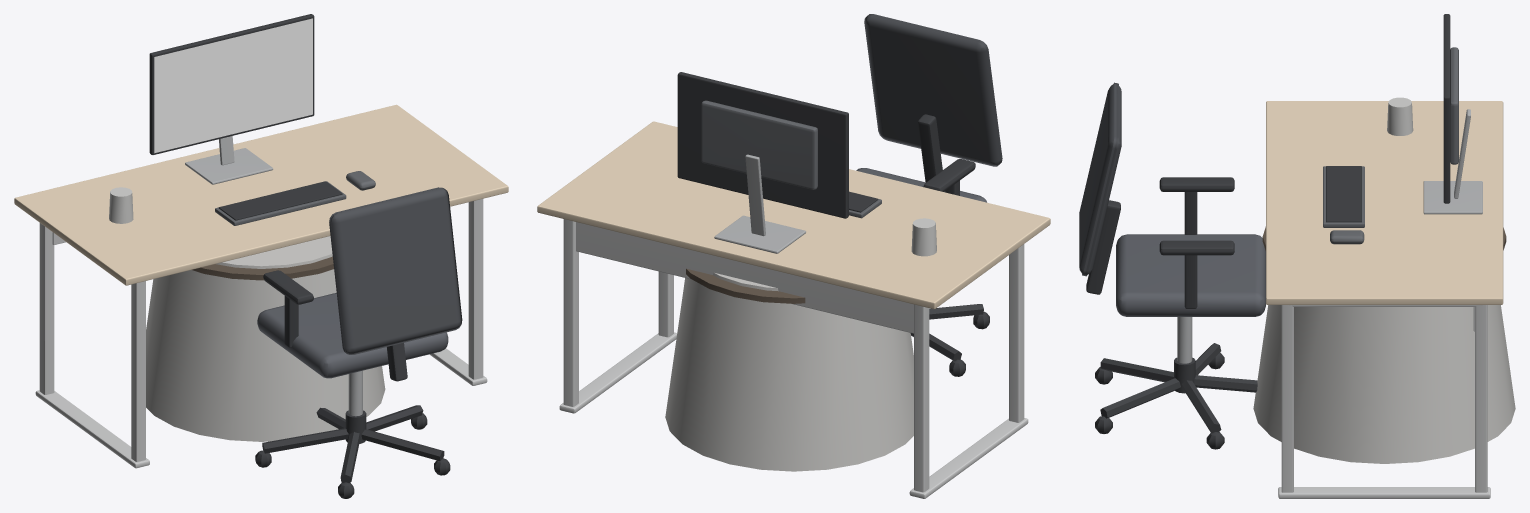
File: office.glb
The picture shows the model from 3 angles, left to right: view 1: azimuth 30°, elevation 25°; view 2: azimuth 150°, elevation 25°; view 3: azimuth 270°, elevation 25°; orthographic projection. The views are drawn at different scales.
Visible parts, largest first — view 1: workstation, planter; view 2: workstation, planter; view 3: workstation, planter.
Part boxes in pixels (x1,y1,x2,y2): workstation: (14, 14, 508, 498); planter: (146, 236, 385, 441); workstation: (537, 14, 1050, 498); planter: (665, 268, 913, 471); workstation: (1079, 14, 1503, 498); planter: (1253, 226, 1515, 463).
Size of the model in its own units: 1.5 by 1.25 by 1.4.
